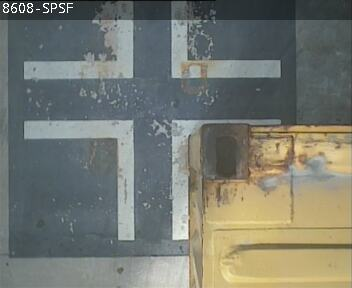groundmarker_1: (23, 120, 282, 239), (23, 1, 281, 77)
